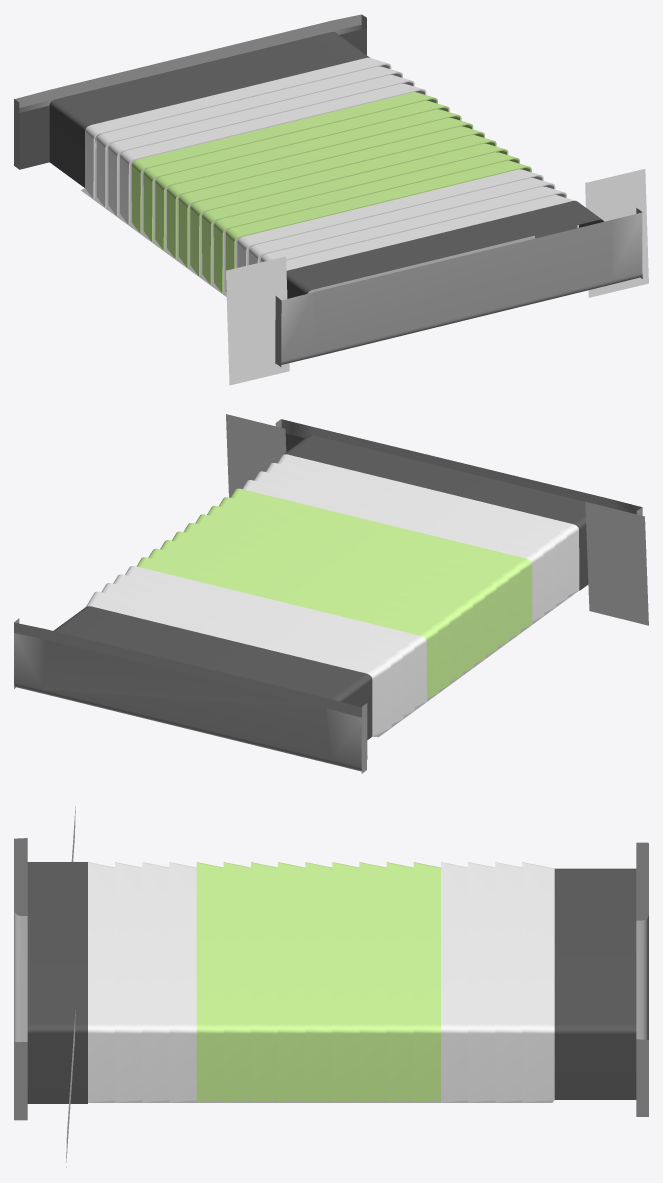
The model's file is MB_EQC_Env.glb.
3 renders of one model, top to bottom at view 1: azimuth 30°, elevation 25°; view 2: azimuth 150°, elevation 25°; view 3: azimuth 270°, elevation 25°, orthographic. The views are drawn at different scales.
Visible parts, largest first — view 1: ENV_Eqc_Walls_Outer, ENV_Eqc_Walls_Center, ENV_Eqc_Floor, ENV_Eqc_Entrences; view 2: ENV_Eqc_Walls_Outer, ENV_Eqc_Walls_Center, ENV_Eqc_Floor, ENV_Eqc_Entrences; view 3: ENV_Eqc_Walls_Center, ENV_Eqc_Walls_Outer, ENV_Eqc_Entrences, ENV_Eqc_Floor.
Part boxes in pixels (x1=…): ENV_Eqc_Walls_Outer: x1=85, y1=57, x2=648, y2=385; ENV_Eqc_Walls_Center: x1=131, y1=92, x2=531, y2=293; ENV_Eqc_Floor: x1=14, y1=14, x2=642, y2=366; ENV_Eqc_Entrences: x1=19, y1=28, x2=603, y2=363; ENV_Eqc_Walls_Outer: x1=86, y1=414, x2=648, y2=736; ENV_Eqc_Walls_Center: x1=136, y1=488, x2=532, y2=698; ENV_Eqc_Floor: x1=14, y1=419, x2=642, y2=773; ENV_Eqc_Entrences: x1=53, y1=433, x2=588, y2=759; ENV_Eqc_Walls_Center: x1=196, y1=862, x2=440, y2=1102; ENV_Eqc_Walls_Outer: x1=66, y1=806, x2=554, y2=1167; ENV_Eqc_Entrences: x1=27, y1=862, x2=636, y2=1103; ENV_Eqc_Floor: x1=14, y1=838, x2=648, y2=1120.
Bounding box in the file's own units: 36.91 × 9.43 × 41.78.
